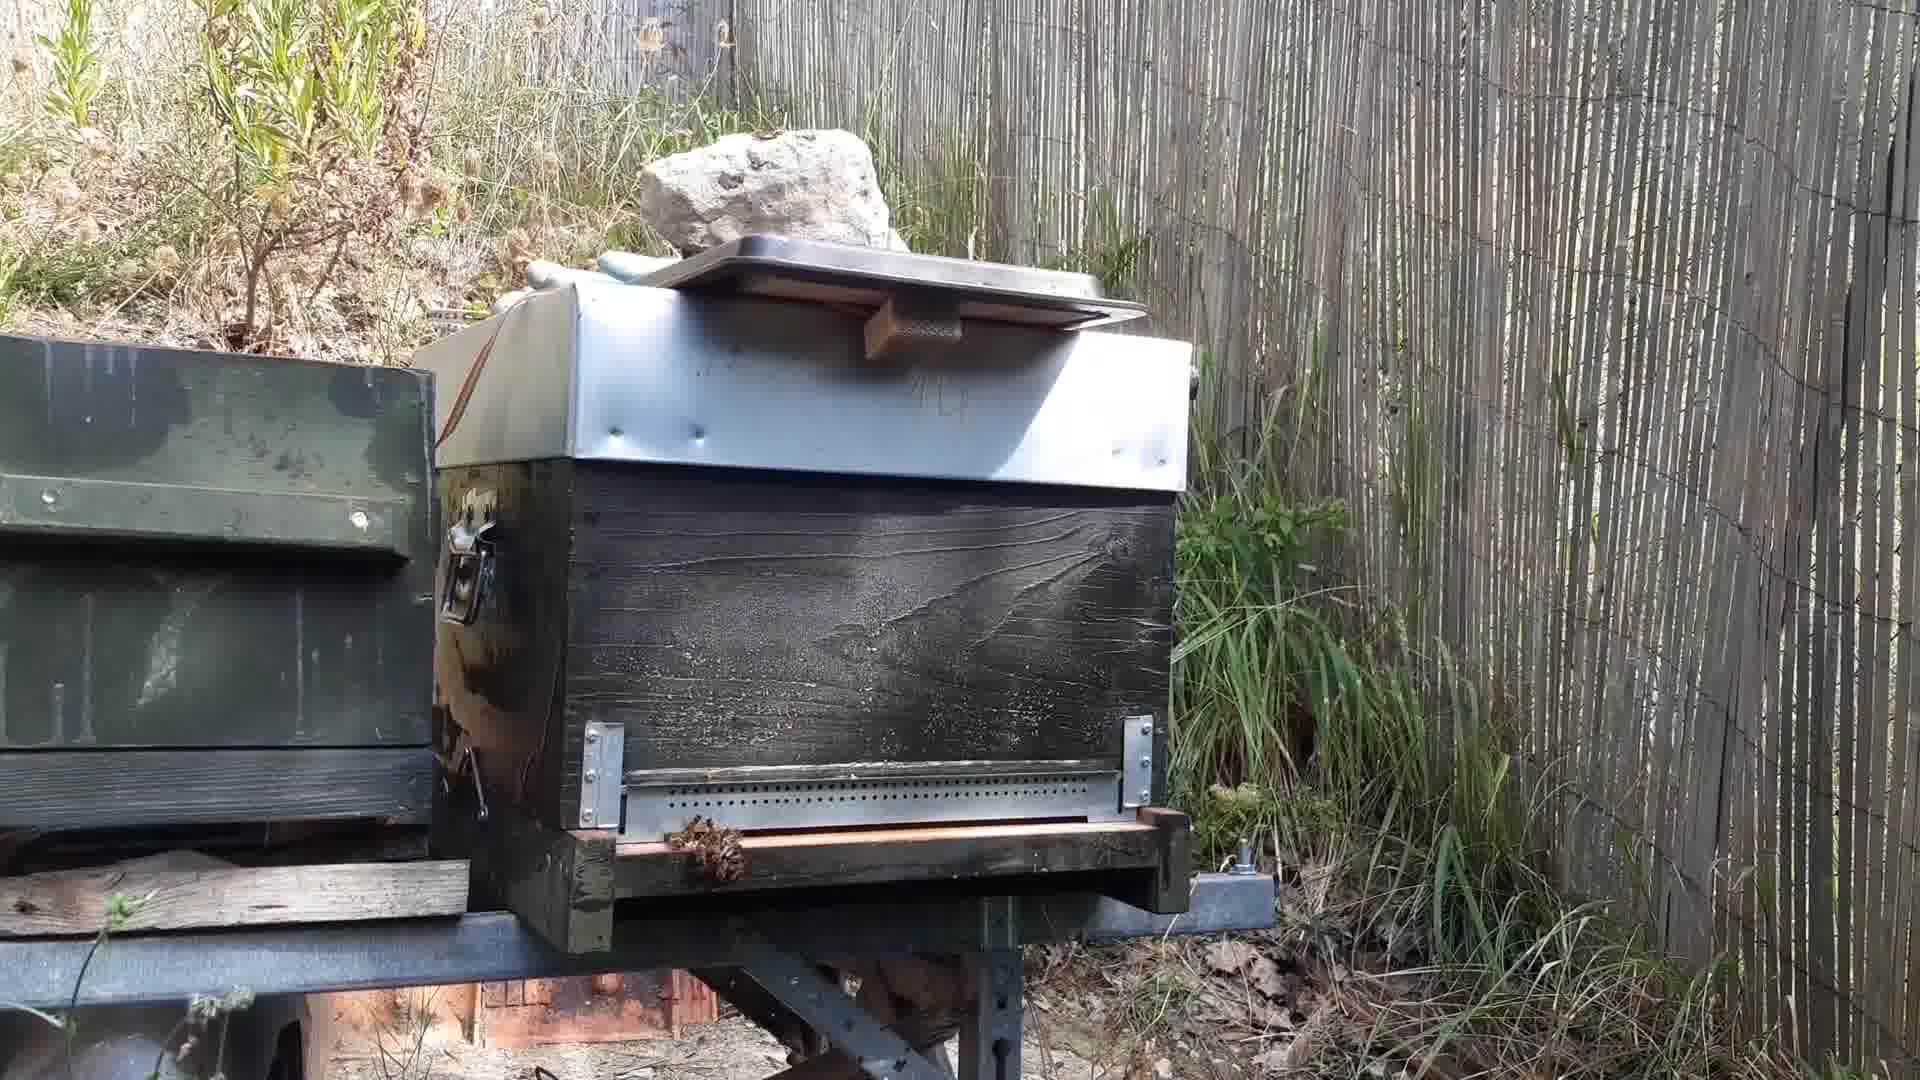bee: (676, 814, 746, 885)
